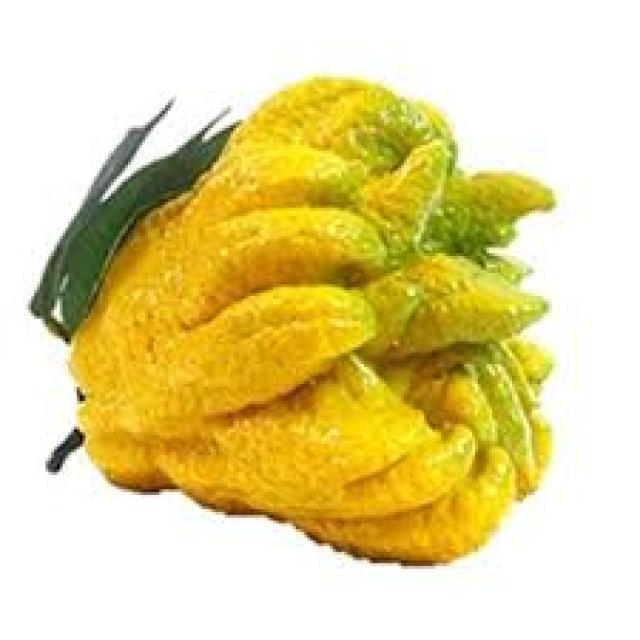PhatThu: (32, 64, 551, 568)
